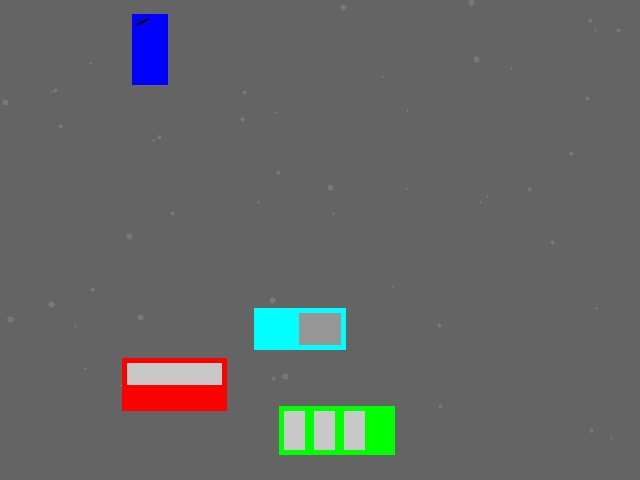bus: (279, 406, 394, 454)
car: (122, 358, 226, 410)
motorcycle: (132, 14, 167, 84)
truck: (254, 308, 345, 349)
